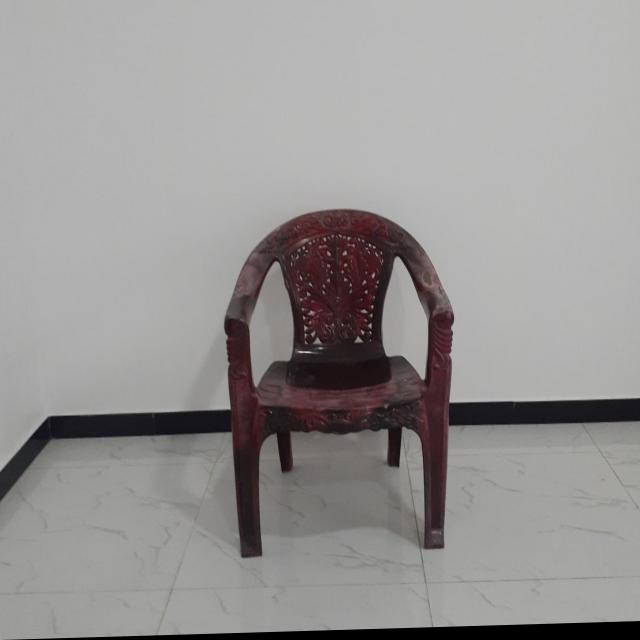Chair: (222, 207, 453, 559)
